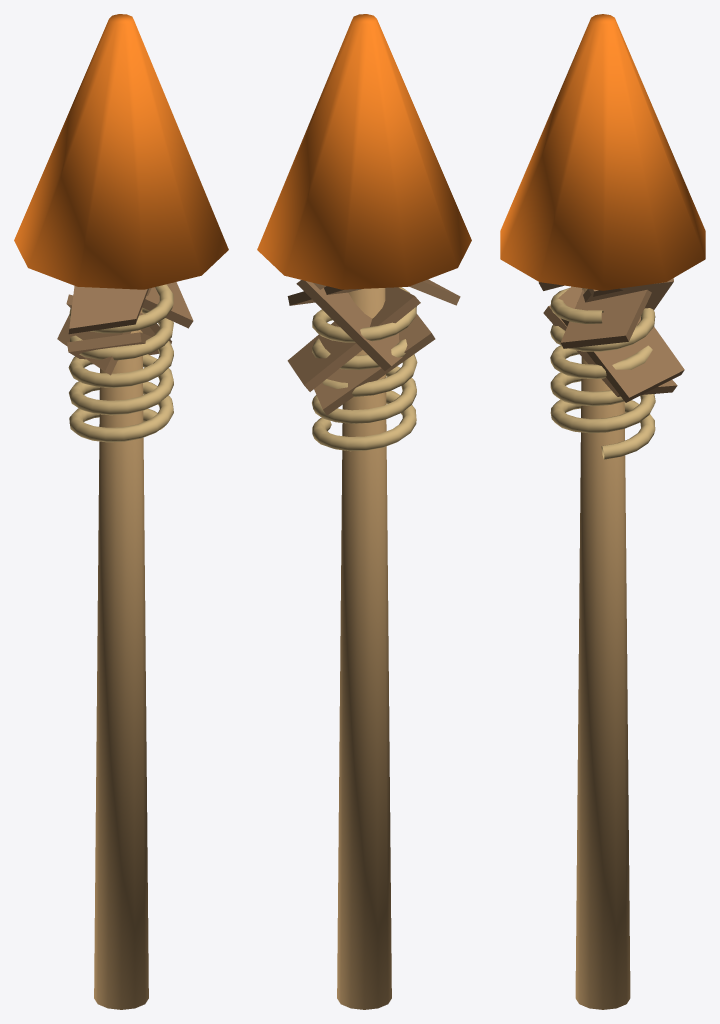
Rendered from torch.glb.
3 views of the same model, side by side, from view 1: azimuth 30°, elevation 25°; view 2: azimuth 150°, elevation 25°; view 3: azimuth 270°, elevation 25° (orthographic).
Visible parts, largest first — view 1: torch_flame_outer, torch_shaft, torch_lashing, torch_wrap_4, torch_wrap_0, torch_wrap_3, torch_wrap_2; view 2: torch_flame_outer, torch_shaft, torch_lashing, torch_wrap_1, torch_wrap_2, torch_wrap_0, torch_wrap_4; view 3: torch_flame_outer, torch_shaft, torch_lashing, torch_wrap_1, torch_wrap_3, torch_wrap_2, torch_wrap_0.
Boxes of the visible parts, x1=… form: torch_flame_outer: x1=14, y1=14, x2=228, y2=289; torch_shaft: x1=94, y1=309, x2=148, y2=1009; torch_lashing: x1=68, y1=284, x2=173, y2=442; torch_wrap_4: x1=68, y1=286, x2=148, y2=334; torch_wrap_0: x1=67, y1=332, x2=159, y2=364; torch_wrap_3: x1=142, y1=282, x2=193, y2=328; torch_wrap_2: x1=57, y1=288, x2=151, y2=375; torch_flame_outer: x1=257, y1=14, x2=471, y2=289; torch_shaft: x1=337, y1=288, x2=391, y2=1009; torch_lashing: x1=312, y1=287, x2=417, y2=451; torch_wrap_1: x1=287, y1=287, x2=420, y2=391; torch_wrap_2: x1=296, y1=280, x2=402, y2=370; torch_wrap_0: x1=314, y1=313, x2=435, y2=415; torch_wrap_4: x1=409, y1=279, x2=460, y2=305; torch_flame_outer: x1=500, y1=14, x2=705, y2=290; torch_shaft: x1=575, y1=288, x2=630, y2=1009; torch_lashing: x1=550, y1=288, x2=655, y2=459; torch_wrap_1: x1=557, y1=286, x2=684, y2=402; torch_wrap_3: x1=560, y1=289, x2=651, y2=348; torch_wrap_2: x1=583, y1=278, x2=673, y2=309; torch_wrap_0: x1=543, y1=305, x2=677, y2=396.
Size of the model in its own units: 0.2103 by 1.05 by 0.2.
